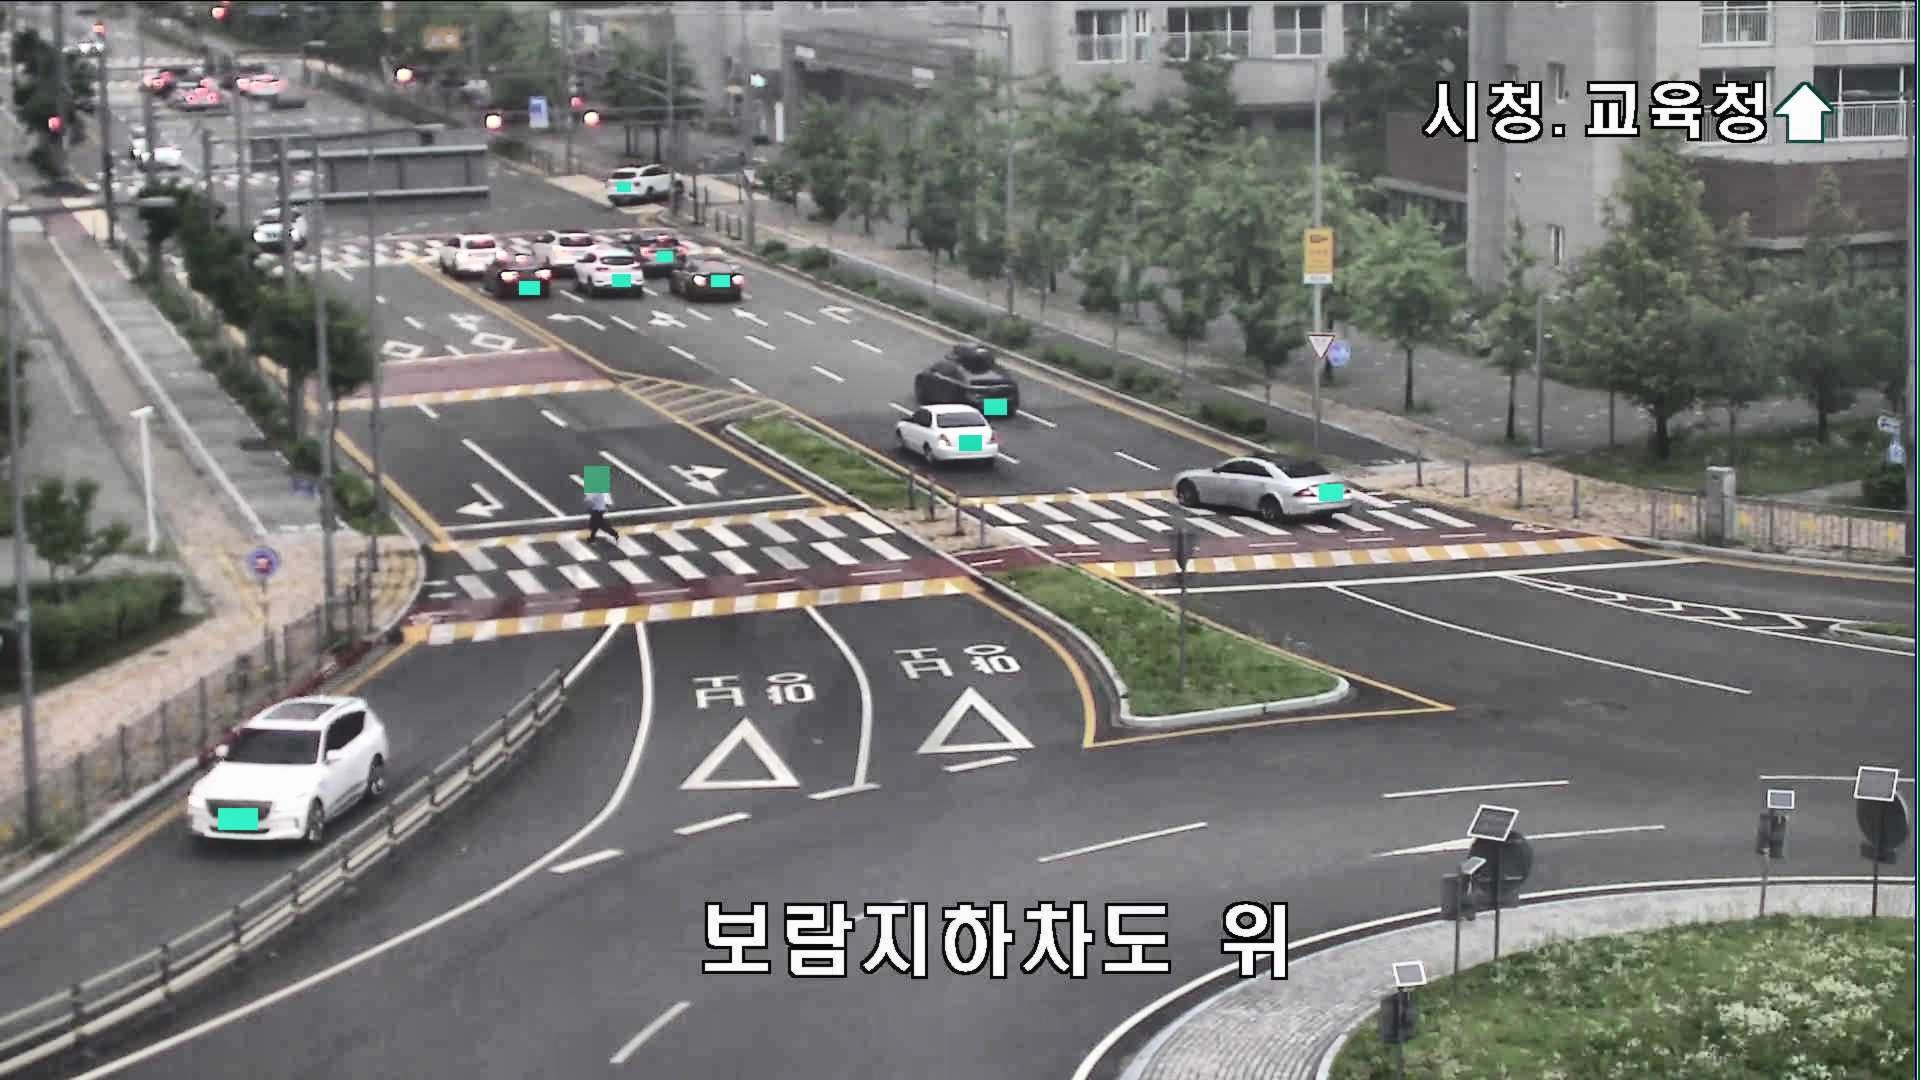crosswalk: (585, 465, 621, 545)
